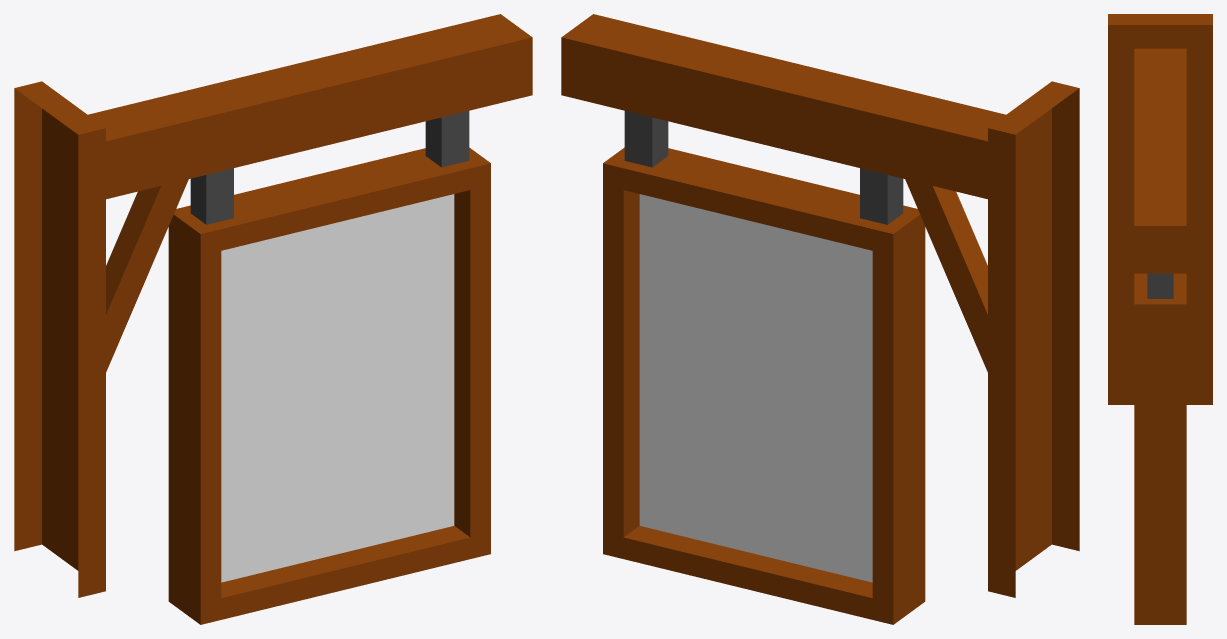
Rendered from shopsign.obj.
3 views of the same model, side by side, from view 1: azimuth 30°, elevation 25°; view 2: azimuth 150°, elevation 25°; view 3: azimuth 270°, elevation 25° (orthographic). The views are drawn at different scales.
Parts seen in each view (by area): view 1: shopsign_back; view 2: shopsign_back; view 3: shopsign_back.
Part boxes in pixels (x1,y1,x2,y2): shopsign_back: (14,14,532,624); shopsign_back: (561,14,1079,624); shopsign_back: (1108,14,1212,624).
Bounding box in the file's own units: 1.36 × 1.48 × 0.32.
